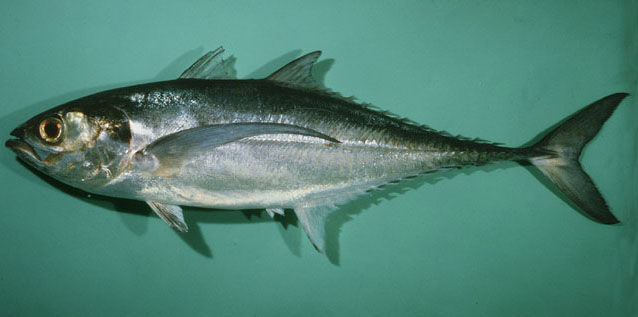fish: (5, 44, 631, 254)
